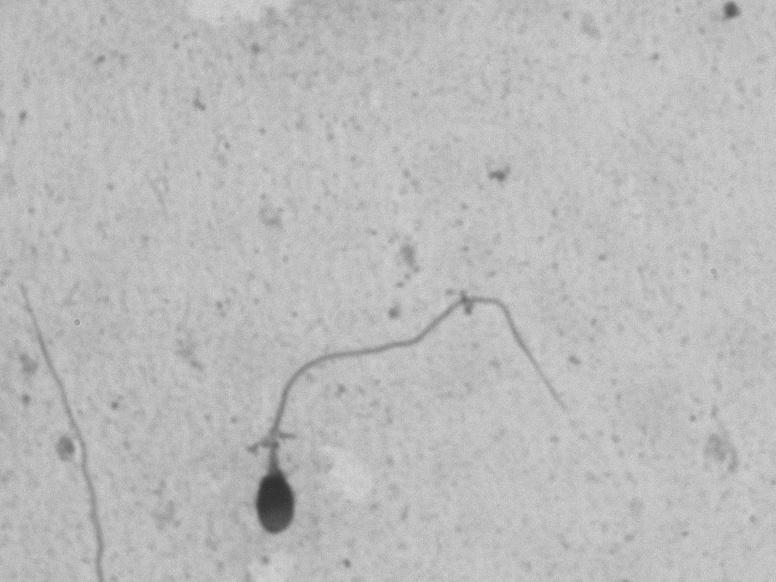Normal: (218, 289, 614, 556)
